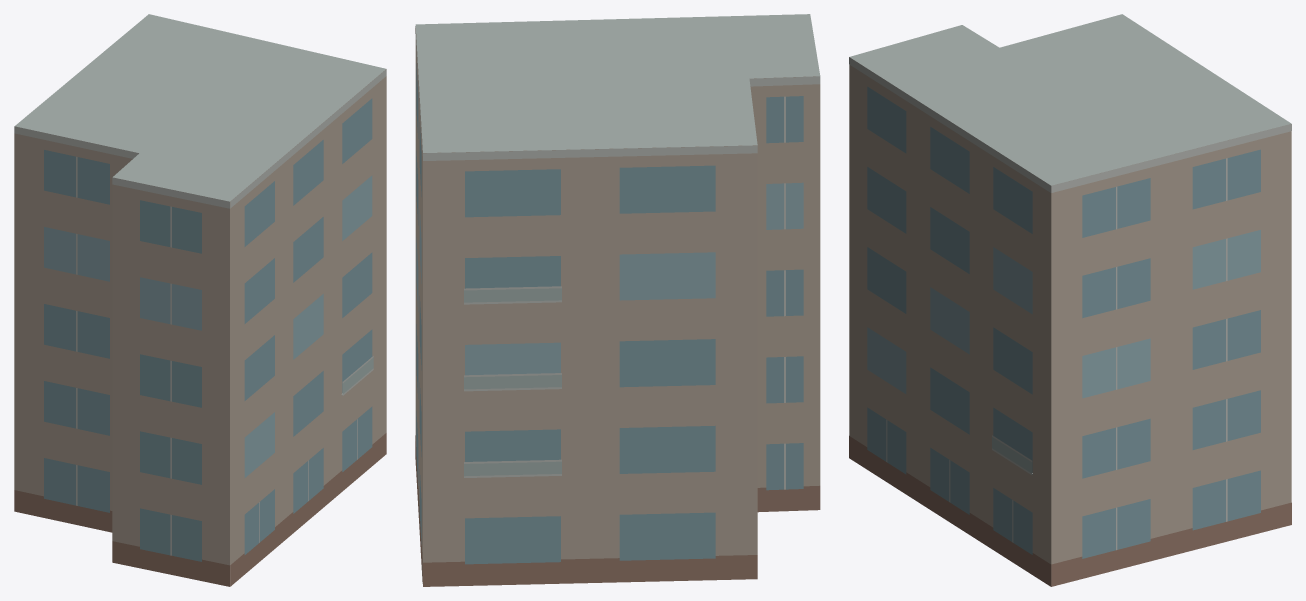
File: survey-upis-32883371.glb
The picture shows the model from 3 angles, left to right: view 1: azimuth 30°, elevation 25°; view 2: azimuth 150°, elevation 25°; view 3: azimuth 270°, elevation 25°; orthographic projection. The views are drawn at different scales.
Parts seen in each view (by area): view 1: survey-upis-32883371.tmp; view 2: survey-upis-32883371.tmp; view 3: survey-upis-32883371.tmp.
Boxes of the visible parts, left/top/right/bottom form: survey-upis-32883371.tmp: left=14, top=14, right=386, bottom=586; survey-upis-32883371.tmp: left=415, top=14, right=820, bottom=586; survey-upis-32883371.tmp: left=849, top=14, right=1291, bottom=586.
Bounding box in the file's own units: 12.13 × 13.2 × 13.21.
